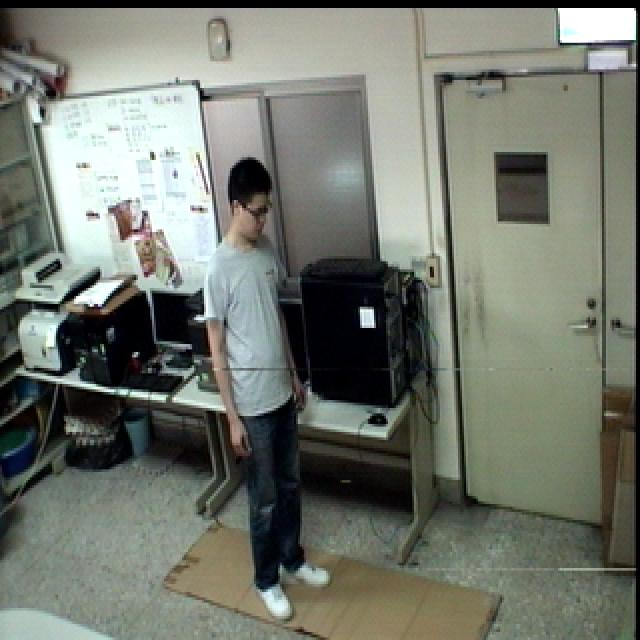stand: (199, 150, 338, 624)
